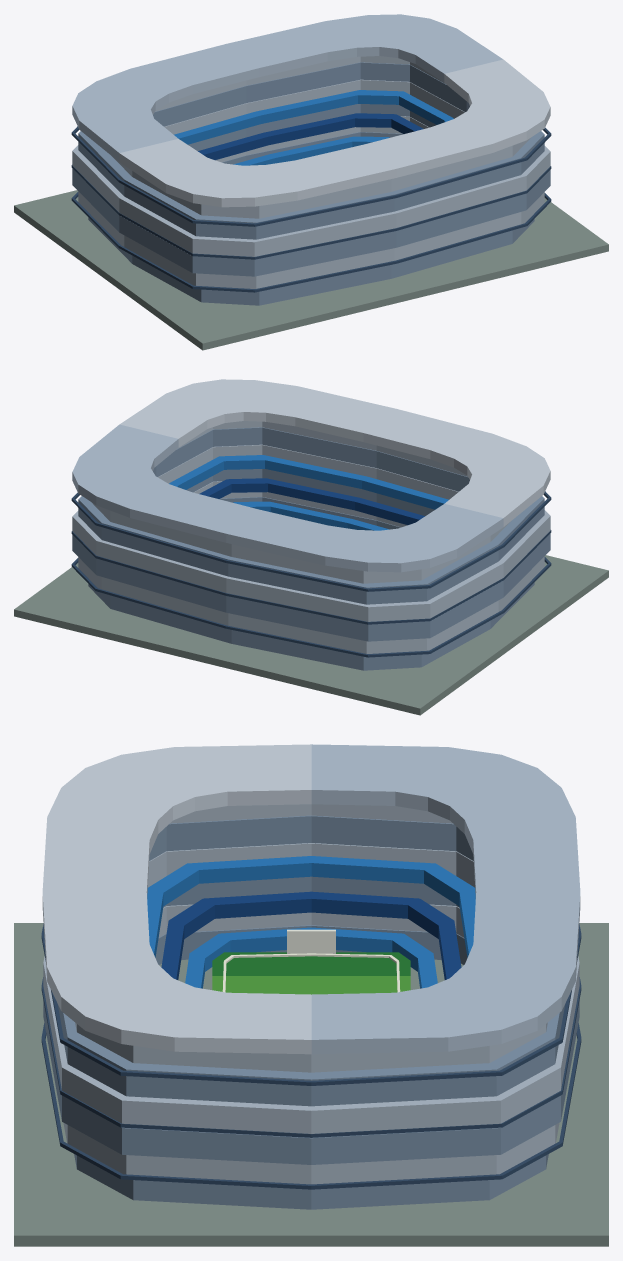
The model's file is santiago-bernabeu.glb.
3 views of the same model, one above another, from view 1: azimuth 30°, elevation 25°; view 2: azimuth 150°, elevation 25°; view 3: azimuth 270°, elevation 25° (orthographic). The views are drawn at different scales.
Visible parts, largest first — view 1: shell_A5B1B5, shell_B6C0C2, roof_north_CED5D3, base_A6ABA0, roof_south_C2CECD, shell_657C86, seating_849BB4, seating_596B83; view 2: shell_A5B1B5, shell_B6C0C2, roof_south_C2CECD, base_A6ABA0, roof_north_CED5D3, shell_657C86, seating_849BB4, seating_596B83; view 3: shell_A5B1B5, base_A6ABA0, roof_north_CED5D3, roof_south_C2CECD, shell_B6C0C2, seating_849BB4, shell_657C86, seating_596B83, pitch_1, pitch_2, goals_DEE0CB, pitch_markings_E7E6CB.
Boxes of the visible parts, x1=… form: shell_A5B1B5: x1=72, y1=62, x2=550, y2=305; shell_B6C0C2: x1=72, y1=56, x2=550, y2=288; roof_north_CED5D3: x1=119, y1=59, x2=550, y2=207; base_A6ABA0: x1=14, y1=190, x2=608, y2=350; roof_south_C2CECD: x1=72, y1=14, x2=502, y2=161; shell_657C86: x1=71, y1=126, x2=551, y2=292; seating_849BB4: x1=174, y1=90, x2=453, y2=165; seating_596B83: x1=198, y1=113, x2=423, y2=160; shell_A5B1B5: x1=72, y1=427, x2=550, y2=670; shell_B6C0C2: x1=72, y1=421, x2=550, y2=653; roof_south_C2CECD: x1=72, y1=424, x2=503, y2=572; base_A6ABA0: x1=14, y1=555, x2=608, y2=715; roof_north_CED5D3: x1=120, y1=379, x2=550, y2=526; shell_657C86: x1=71, y1=491, x2=551, y2=657; seating_849BB4: x1=169, y1=455, x2=448, y2=530; seating_596B83: x1=199, y1=478, x2=424, y2=525; shell_A5B1B5: x1=43, y1=815, x2=579, y2=1209; base_A6ABA0: x1=14, y1=923, x2=608, y2=1246; roof_north_CED5D3: x1=42, y1=744, x2=311, y2=1054; roof_south_C2CECD: x1=311, y1=744, x2=580, y2=1054; shell_B6C0C2: x1=43, y1=804, x2=579, y2=1184; seating_849BB4: x1=147, y1=856, x2=475, y2=988; shell_657C86: x1=41, y1=923, x2=581, y2=1189; seating_596B83: x1=161, y1=891, x2=461, y2=979; pitch_1: x1=212, y1=952, x2=410, y2=975; pitch_2: x1=212, y1=976, x2=410, y2=994; goals_DEE0CB: x1=287, y1=929, x2=335, y2=953; pitch_markings_E7E6CB: x1=222, y1=953, x2=400, y2=992.
Bounding box in the file's own units: 1 × 0.2955 × 0.8045.
